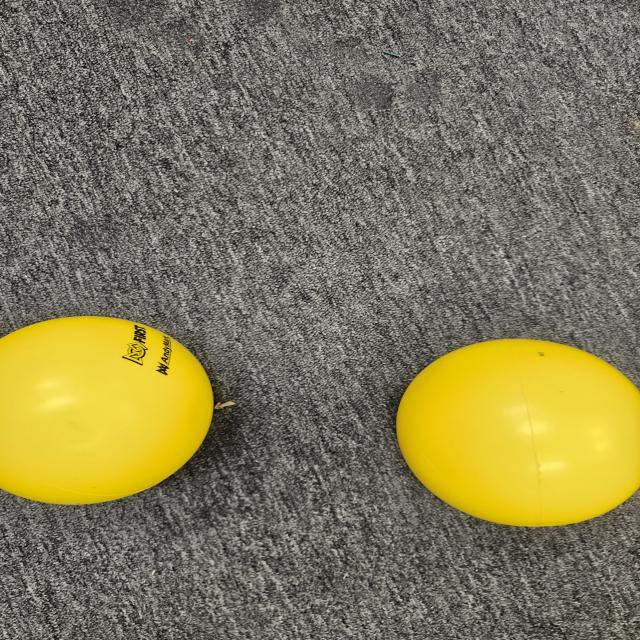Fuel: (383, 324, 640, 546), (0, 305, 224, 513)
